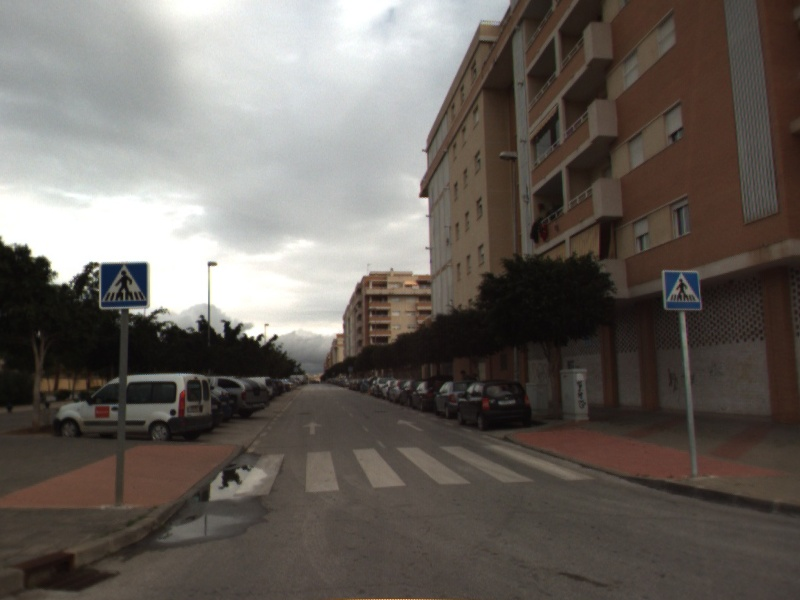STRAIGHT: (395, 417, 426, 433), (300, 420, 325, 436)
